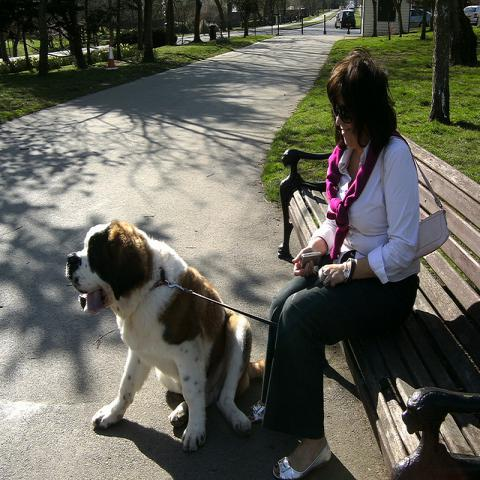car: (410, 8, 431, 28), (334, 10, 356, 29), (463, 5, 480, 24)
